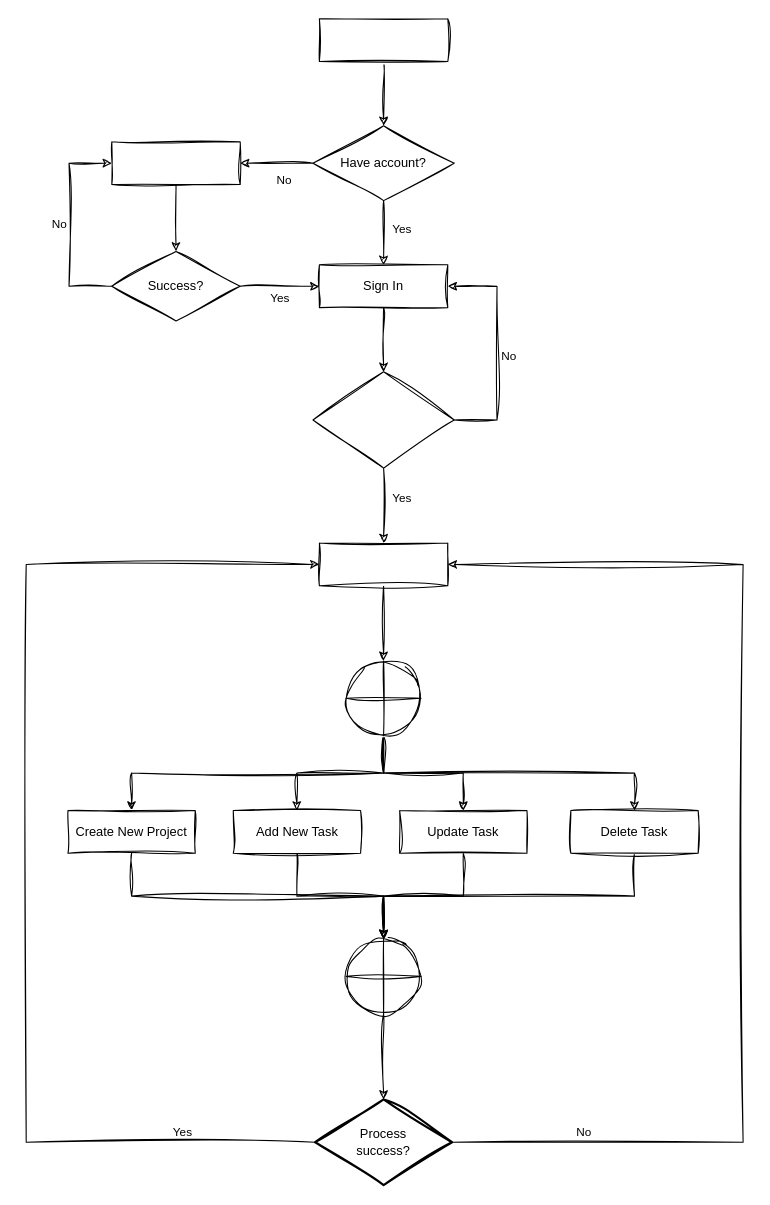
This 770x1205 diagram has some shape labels left out. The shapes that lost their labels are listed below. From the top down, each one's box as (x1, y1, x2, y2) in pixels, then its label:
(318, 18, 448, 62): Start
(111, 141, 240, 185): Sign Up
(312, 371, 454, 468): User authenticated?
(318, 542, 448, 586): Dashboard
